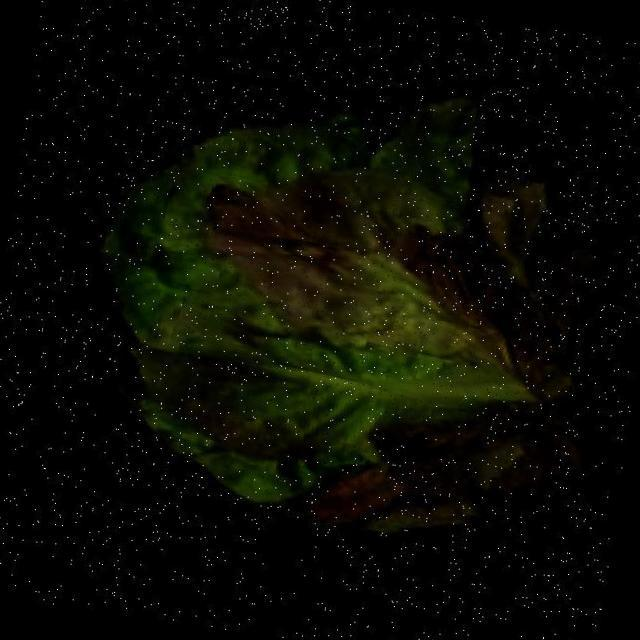Downy_Mildew: (128, 134, 606, 539)
